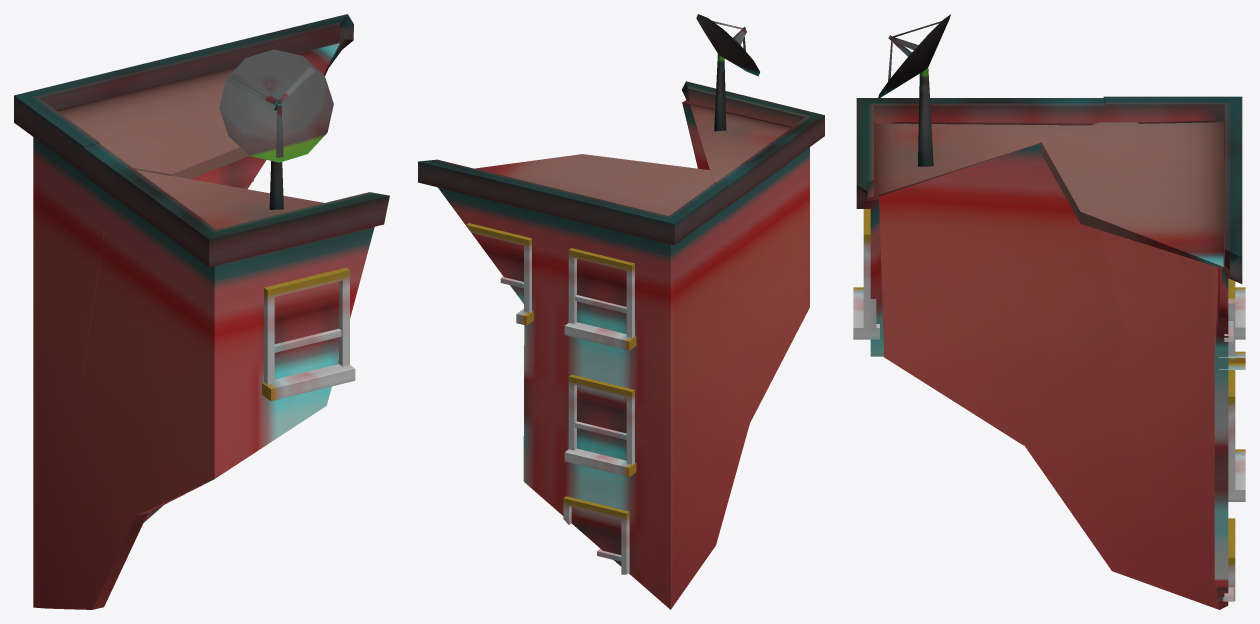
Rendered from B7Broke01.FBX.
3 views of the same model, side by side, from view 1: azimuth 30°, elevation 25°; view 2: azimuth 150°, elevation 25°; view 3: azimuth 270°, elevation 25° (orthographic). The views are drawn at different scales.
Parts seen in each view (by area): view 1: B7Broke01; view 2: B7Broke01; view 3: B7Broke01.
Part boxes in pixels (x1=…): B7Broke01: x1=14, y1=14, x2=389, y2=609; B7Broke01: x1=418, y1=14, x2=824, y2=609; B7Broke01: x1=853, y1=14, x2=1245, y2=609.
Bounding box in the file's own units: 56.47 × 104 × 58.35.
